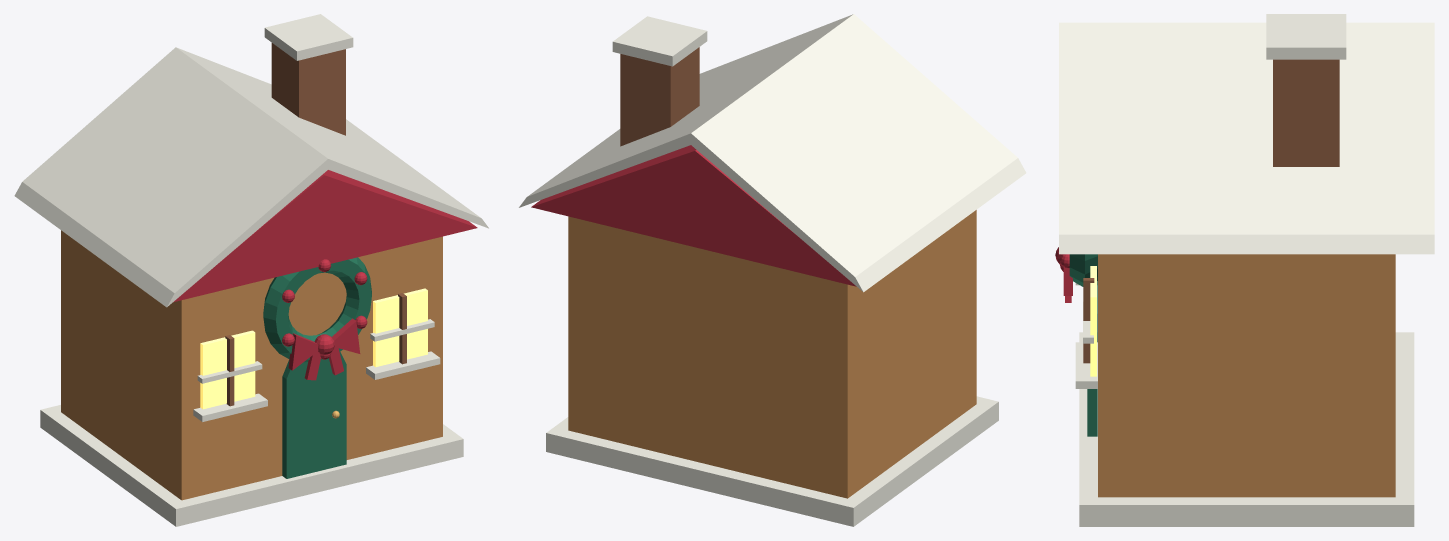
File: cottage_ginger.glb
The picture shows the model from 3 angles, left to right: view 1: azimuth 30°, elevation 25°; view 2: azimuth 150°, elevation 25°; view 3: azimuth 270°, elevation 25°; orthographic projection. The views are drawn at different scales.
Visible parts, largest first — view 1: snowy-cottage; view 2: snowy-cottage; view 3: snowy-cottage.
Part boxes in pixels (x1,y1,x2,y2): snowy-cottage: (14, 14, 488, 526); snowy-cottage: (519, 14, 1026, 526); snowy-cottage: (1055, 14, 1434, 526).
Bounding box in the file's own units: 2.47 × 2.72 × 2.04.
